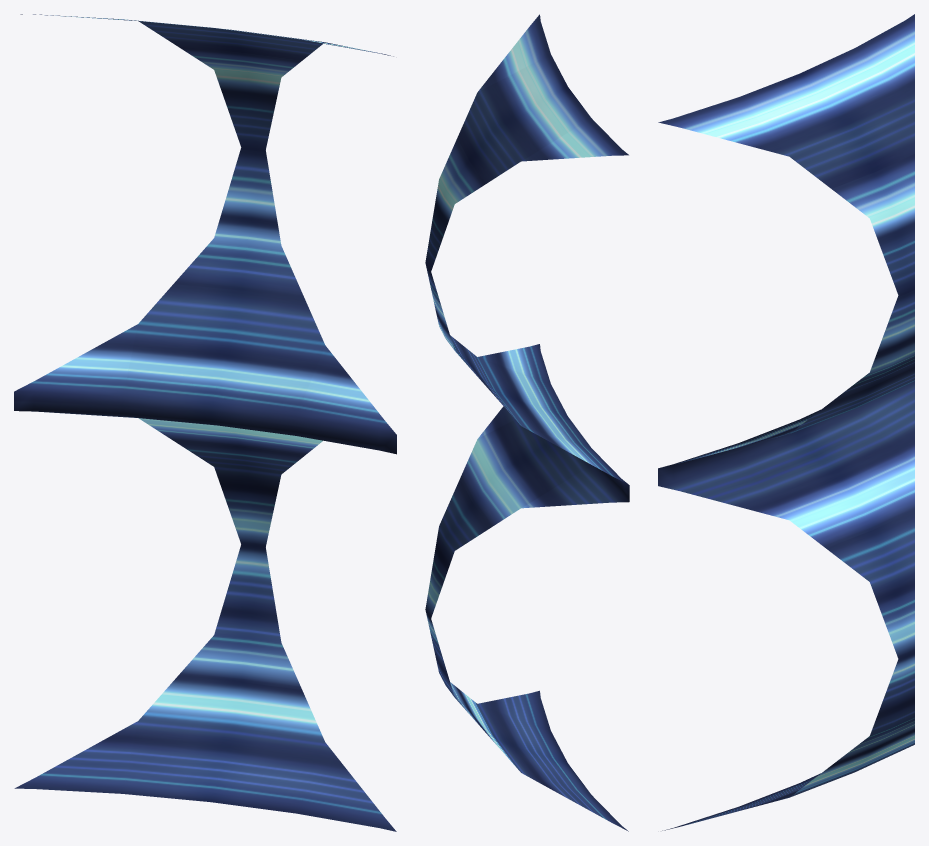
The model's file is tng_core_c.obj.
3 renders of one model, left to right at view 1: azimuth 30°, elevation 25°; view 2: azimuth 150°, elevation 25°; view 3: azimuth 270°, elevation 25°, orthographic. The views are drawn at different scales.
Parts seen in each view (by area): view 1: Core_C; view 2: Core_C; view 3: Core_C.
Boxes of the visible parts, x1,y1,x2,y2 form: Core_C: (14,14,396,831); Core_C: (425,14,629,831); Core_C: (658,14,914,830).
Bounding box in the file's own units: 0.328 × 1 × 0.328.
